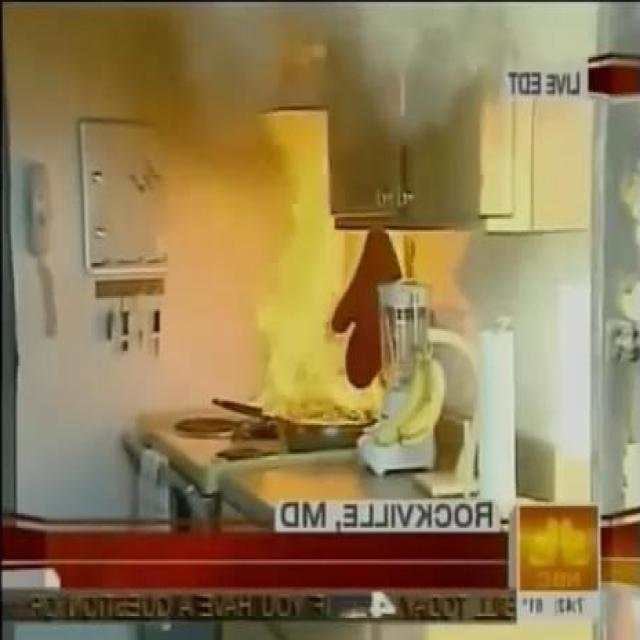fire: (317, 0, 640, 147), (146, 1, 294, 139)
smoke: (247, 112, 416, 418)
